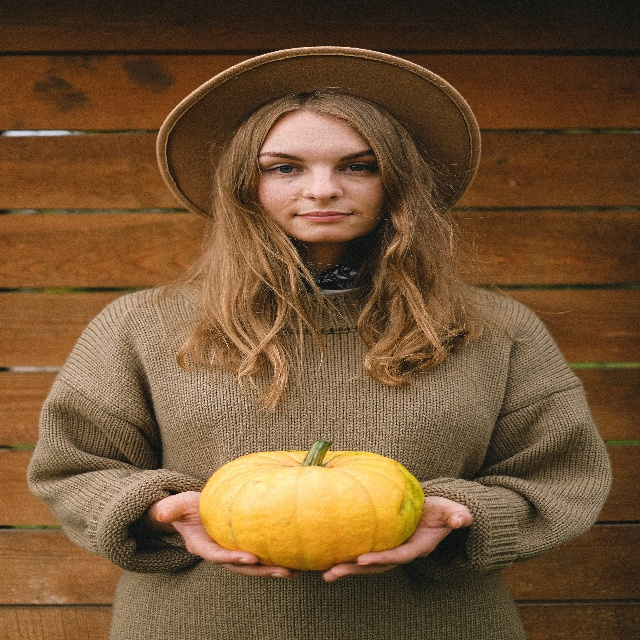Sin_guantes: (155, 487, 302, 581), (321, 493, 473, 583)
